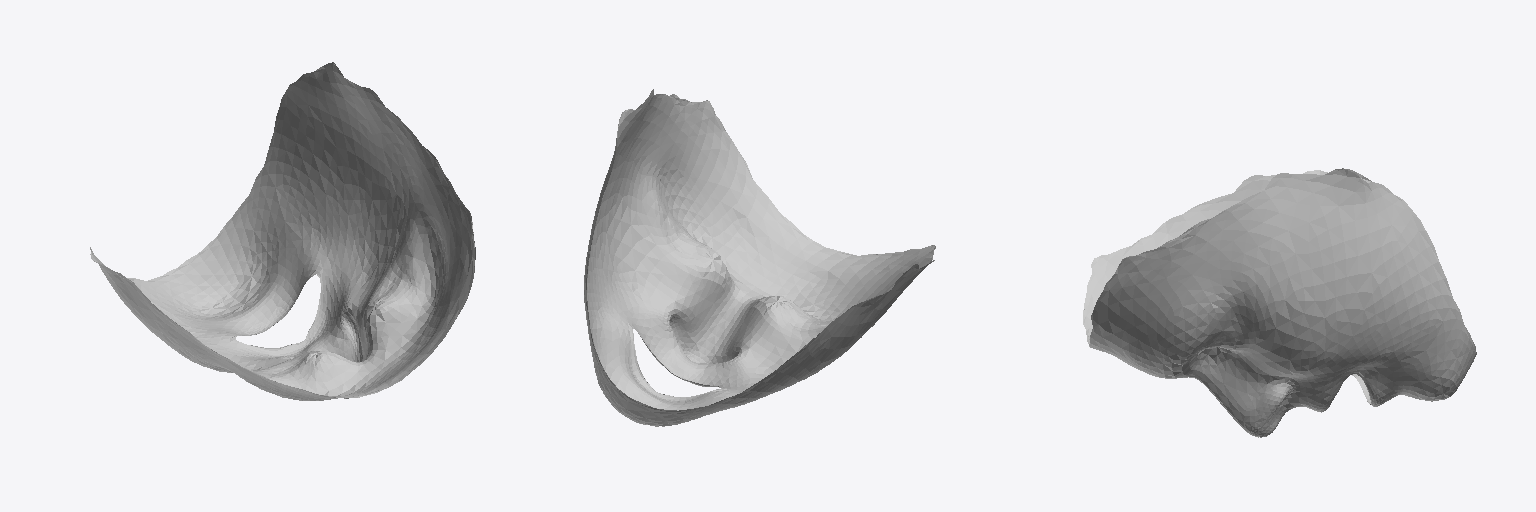
File: face_gab_sfm50.obj
3 renders of one model, left to right at view 1: azimuth 30°, elevation 25°; view 2: azimuth 150°, elevation 25°; view 3: azimuth 270°, elevation 25°, orthographic.
Bounding box in the file's own units: 166 × 157 × 198.